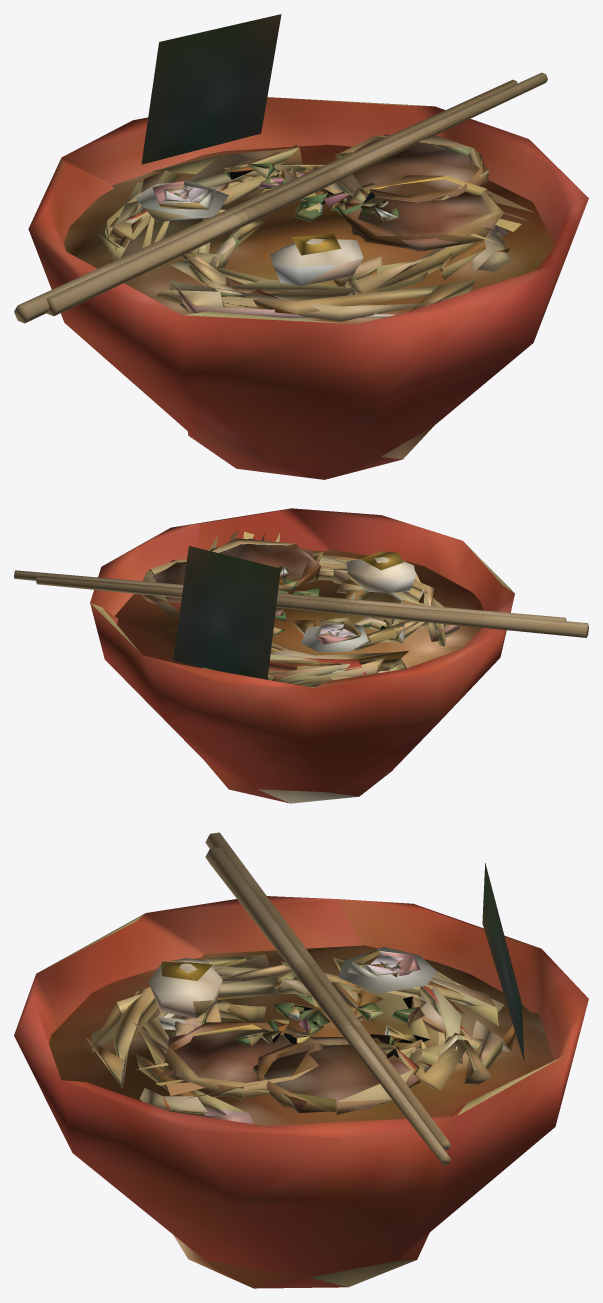
The model's file is ramen_shoyu.glb.
3 renders of one model, top to bottom at view 1: azimuth 30°, elevation 25°; view 2: azimuth 150°, elevation 25°; view 3: azimuth 270°, elevation 25°, orthographic. The views are drawn at different scales.
Visible parts, largest first — view 1: prop_ramen_shoyu_felt, prop_ramen_shoyu_wood; view 2: prop_ramen_shoyu_felt, prop_ramen_shoyu_wood; view 3: prop_ramen_shoyu_felt, prop_ramen_shoyu_wood.
Boxes of the visible parts, x1,y1,x2,y2 form: prop_ramen_shoyu_felt: (28, 14, 588, 479); prop_ramen_shoyu_wood: (14, 72, 547, 323); prop_ramen_shoyu_felt: (90, 508, 514, 803); prop_ramen_shoyu_wood: (14, 570, 588, 637); prop_ramen_shoyu_felt: (14, 863, 588, 1288); prop_ramen_shoyu_wood: (205, 832, 450, 1165).
Bounding box in the file's own units: 0.3955 × 0.1992 × 0.299.
Materials: 2 (2 with a texture image).
